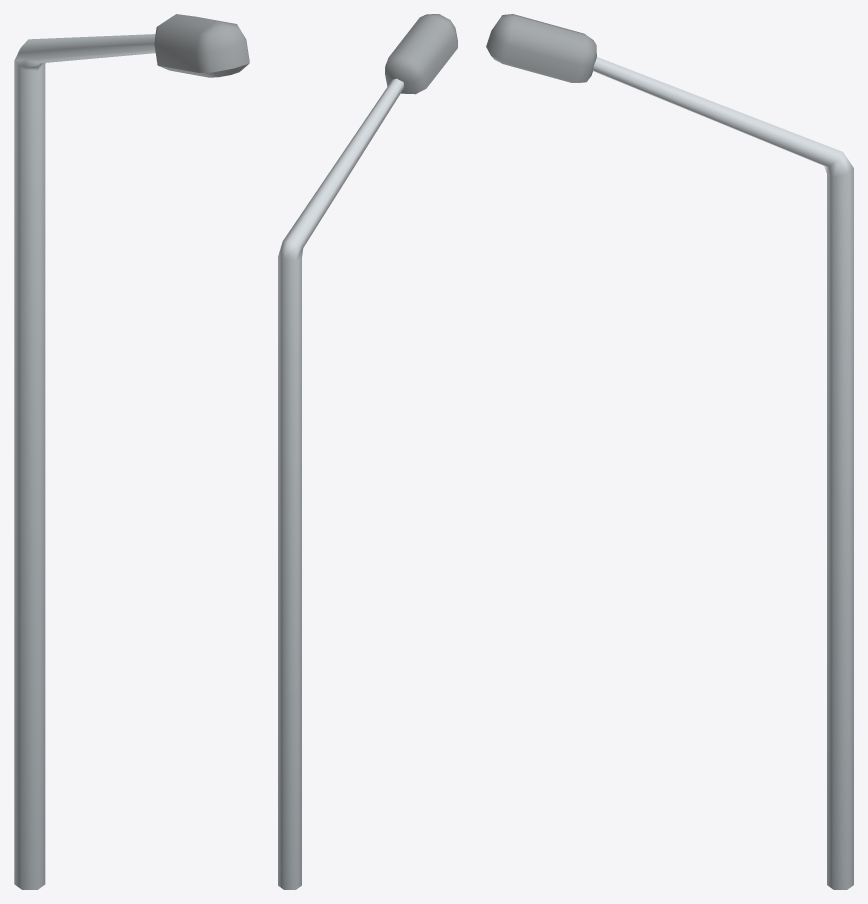
Rendered from city2-lamppost-01.glb.
3 views of the same model, side by side, from view 1: azimuth 30°, elevation 25°; view 2: azimuth 150°, elevation 25°; view 3: azimuth 270°, elevation 25° (orthographic). The views are drawn at different scales.
Parts seen in each view (by area): view 1: Lamppost_01; view 2: Lamppost_01; view 3: Lamppost_01.
Part boxes in pixels (x1,y1,x2,y2): Lamppost_01: [14, 14, 249, 889]; Lamppost_01: [278, 14, 457, 889]; Lamppost_01: [486, 14, 853, 889].
Size of the model in its own units: 0.3688 by 6.92 by 2.66.
1 material, 1 textured.
